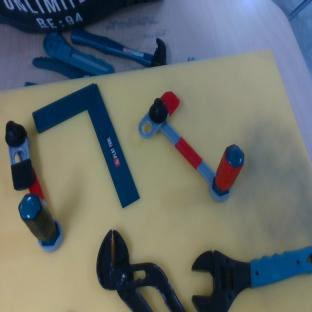non_pass: (0, 117, 69, 258)
pass: (130, 86, 257, 204)
